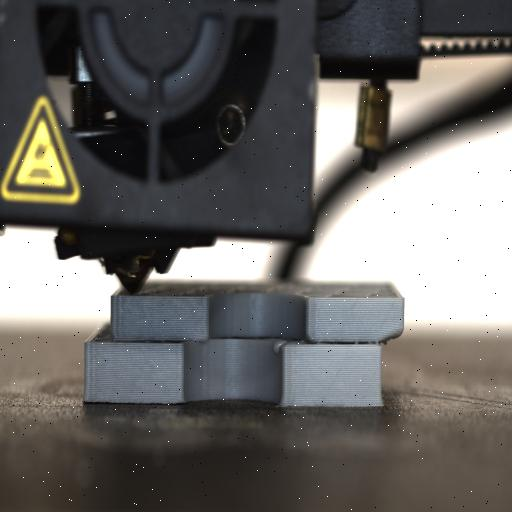layer_shift: (80, 328, 406, 350)
